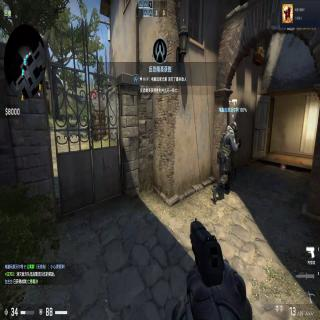CT-Body: (211, 121, 240, 202)
CT-Head: (230, 121, 238, 136)
